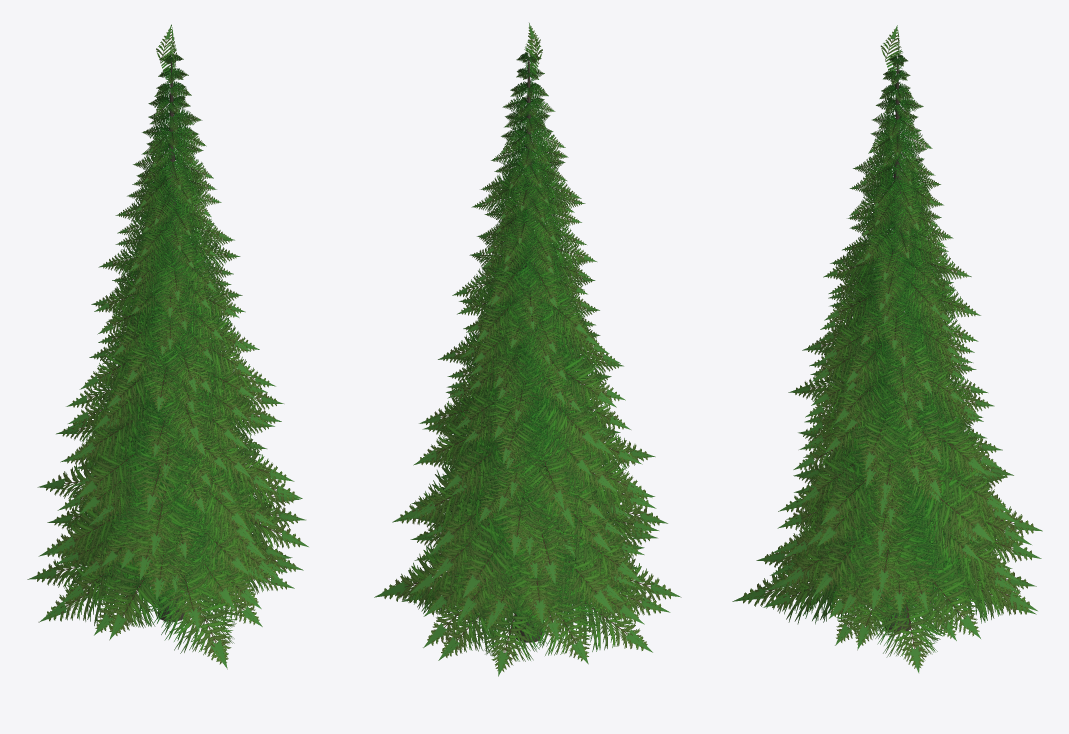
File: spruce_lod0.glb
3 views of the same model, side by side, from view 1: azimuth 30°, elevation 25°; view 2: azimuth 150°, elevation 25°; view 3: azimuth 270°, elevation 25° (orthographic). The views are drawn at different scales.
Visible parts, largest first — view 1: spruce; view 2: spruce; view 3: spruce.
Boxes of the visible parts, x1,y1,x2,y2 form: spruce: (27, 24, 308, 669); spruce: (374, 23, 681, 676); spruce: (732, 25, 1042, 672).
Size of the model in its own units: 12.33 by 26.98 by 12.88.
Materials: 2 (2 with a texture image).
